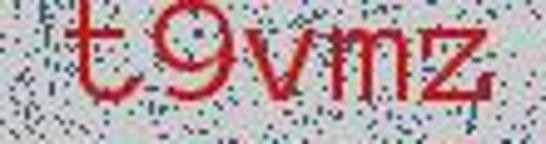9: (149, 1, 239, 107)
m: (328, 22, 415, 110)
t: (57, 2, 147, 108)
v: (239, 12, 315, 103)
z: (417, 20, 501, 111)
